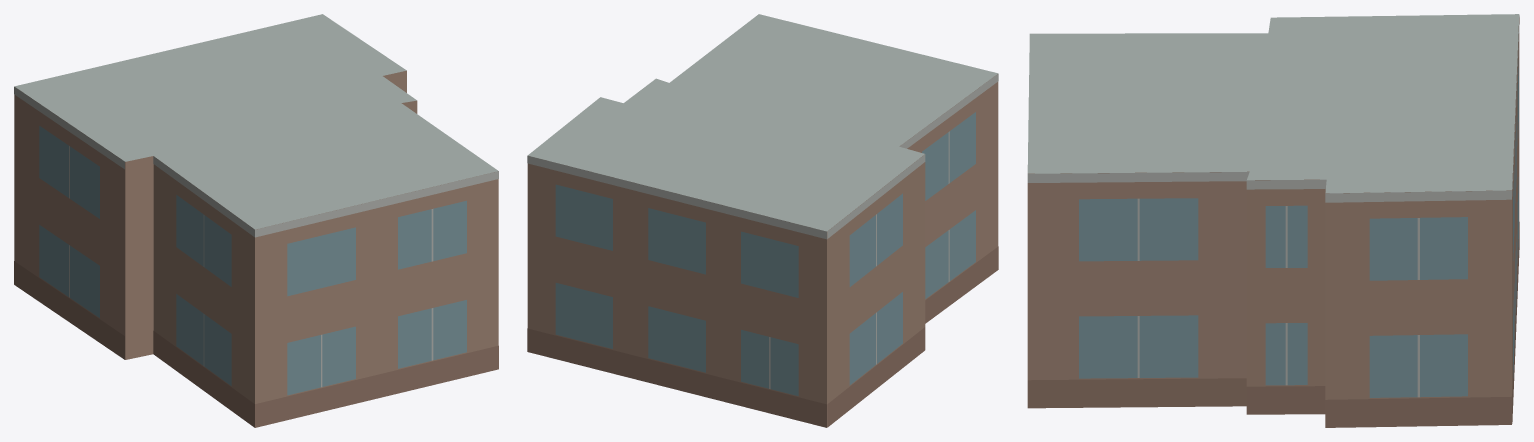
The model's file is survey-upis-32489798.glb.
3 renders of one model, left to right at view 1: azimuth 30°, elevation 25°; view 2: azimuth 150°, elevation 25°; view 3: azimuth 270°, elevation 25°, orthographic. The views are drawn at different scales.
Visible parts, largest first — view 1: survey-upis-32489798.tmp; view 2: survey-upis-32489798.tmp; view 3: survey-upis-32489798.tmp.
Part boxes in pixels (x1,y1,x2,y2): survey-upis-32489798.tmp: [14, 14, 498, 427]; survey-upis-32489798.tmp: [527, 14, 998, 427]; survey-upis-32489798.tmp: [1027, 14, 1519, 427].
Size of the model in its own units: 10.02 by 6.1 by 11.61.
